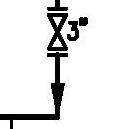verticalvalve: (47, 7, 69, 55)
